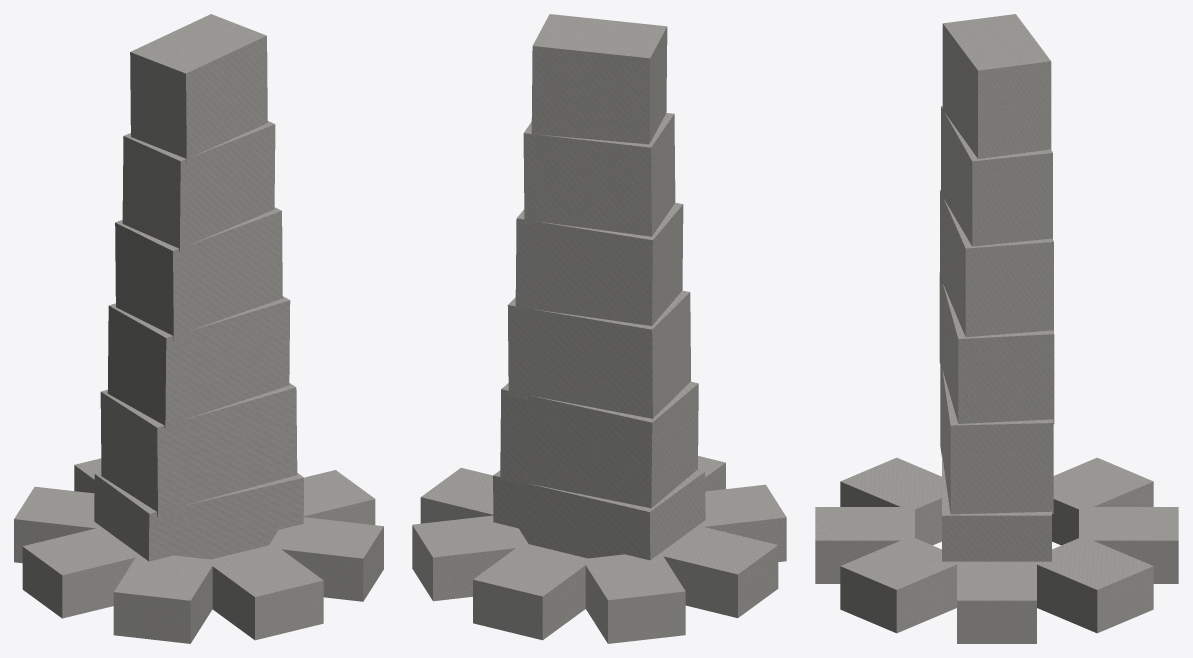
File: standing-stone.glb
3 renders of one model, left to right at view 1: azimuth 30°, elevation 25°; view 2: azimuth 150°, elevation 25°; view 3: azimuth 270°, elevation 25°, orthographic.
Visible parts, largest first — view 1: standing-stone-stone; view 2: standing-stone-stone; view 3: standing-stone-stone.
Boxes of the visible parts, box(x1,y1,x2,y2) form: standing-stone-stone: box(14, 14, 383, 643); standing-stone-stone: box(412, 14, 786, 643); standing-stone-stone: box(815, 14, 1178, 643).
Bounding box in the file's own units: 1.82 × 2.91 × 1.82.
Materials: 1 (1 with a texture image).
